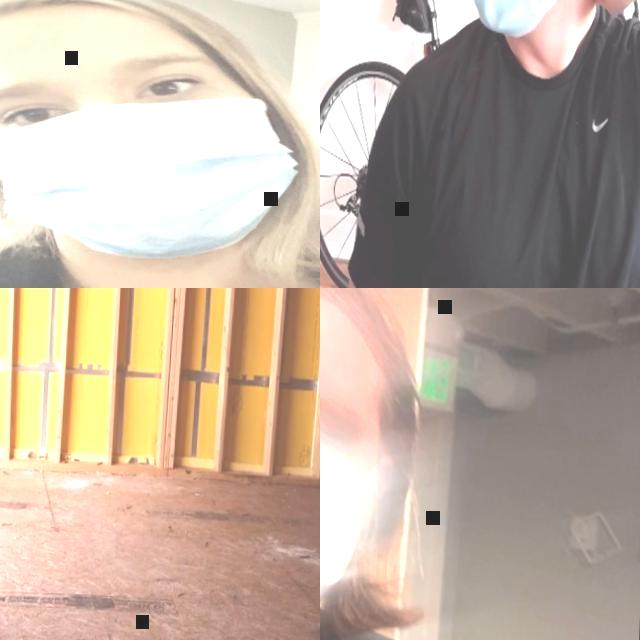mask: (0, 89, 298, 262), (320, 414, 382, 640), (464, 0, 591, 41)
no_helmet: (0, 0, 209, 77), (320, 288, 402, 372)
no_vest: (400, 0, 640, 288)
person: (0, 0, 320, 288), (334, 0, 640, 288), (320, 288, 549, 640)
